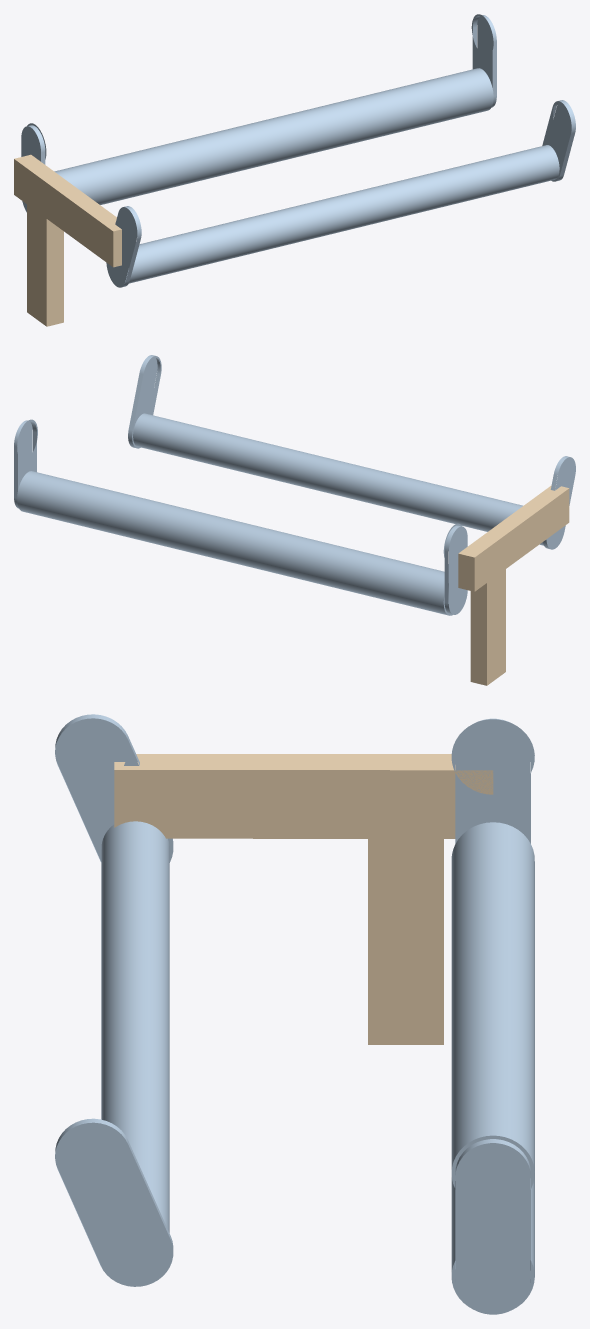
File: shooterIntakeAssembly.dae
3 views of the same model, one above another, from view 1: azimuth 30°, elevation 25°; view 2: azimuth 150°, elevation 25°; view 3: azimuth 270°, elevation 25° (orthographic). The views are drawn at different scales.
Visible parts, largest first — view 1: ShooterIntakeAssembly; view 2: ShooterIntakeAssembly; view 3: ShooterIntakeAssembly.
Boxes of the visible parts, x1=… form: ShooterIntakeAssembly: x1=14, y1=14, x2=575, y2=326; ShooterIntakeAssembly: x1=14, y1=355, x2=575, y2=685; ShooterIntakeAssembly: x1=55, y1=714, x2=534, y2=1314.
Size of the model in its own units: 0.6985 by 0.3216 by 0.2438.
